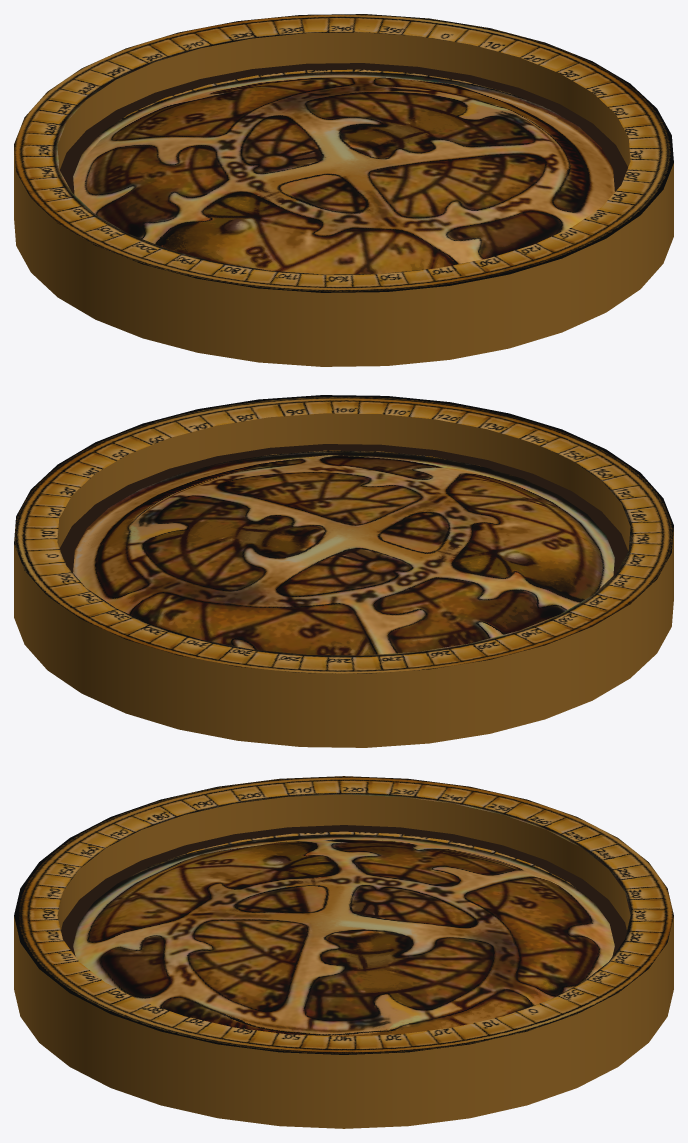
The model's file is astrolabus_body.glb.
3 renders of one model, top to bottom at view 1: azimuth 30°, elevation 25°; view 2: azimuth 150°, elevation 25°; view 3: azimuth 270°, elevation 25°, orthographic.
Parts seen in each view (by area): view 1: RoundPart, MainFrame, OuterRim, InnerRim; view 2: RoundPart, MainFrame, OuterRim, InnerRim; view 3: RoundPart, MainFrame, OuterRim, InnerRim.
Part boxes in pixels (box(x1,y1,x2,y2)): RoundPart: box(73, 69, 614, 274); MainFrame: box(14, 32, 673, 366); OuterRim: box(14, 14, 673, 292); InnerRim: box(60, 63, 627, 194); RoundPart: box(73, 450, 614, 655); MainFrame: box(14, 413, 673, 747); OuterRim: box(14, 395, 673, 673); InnerRim: box(60, 444, 627, 575); RoundPart: box(73, 831, 614, 1036); MainFrame: box(14, 794, 673, 1128); OuterRim: box(14, 776, 673, 1054); InnerRim: box(61, 825, 626, 956).
Size of the model in its own units: 0.2624 by 0.0324 by 0.2624.
4 materials, 2 textured.
